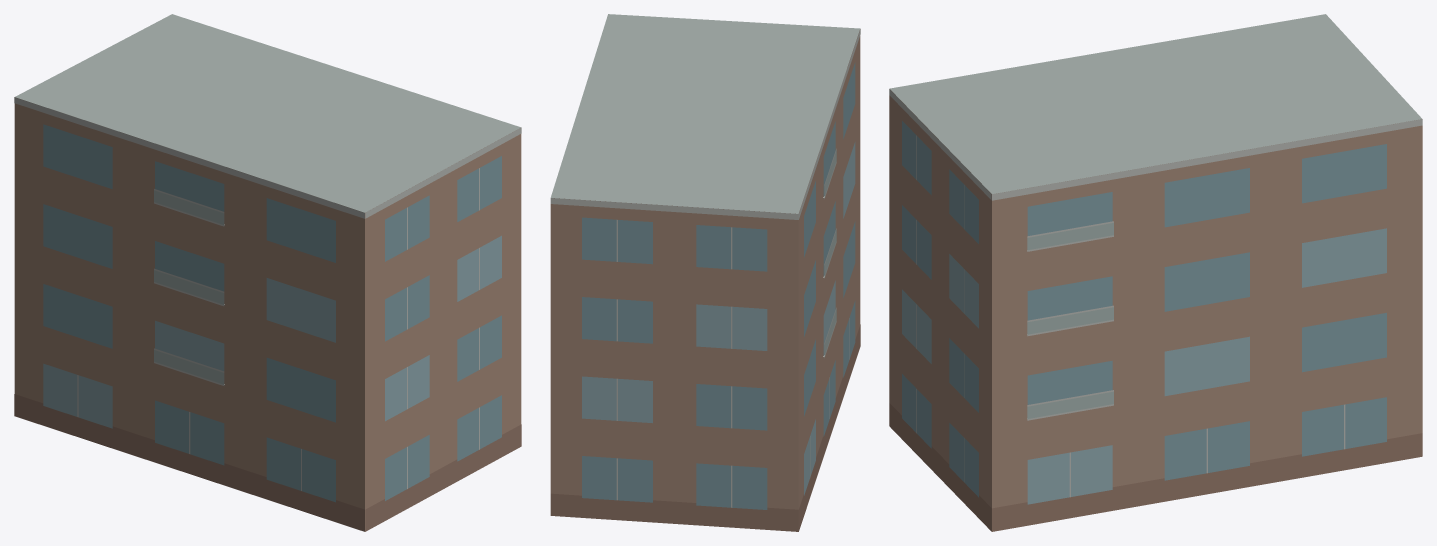
The model's file is survey-upis-32929519.glb.
3 views of the same model, side by side, from view 1: azimuth 30°, elevation 25°; view 2: azimuth 150°, elevation 25°; view 3: azimuth 270°, elevation 25° (orthographic). The views are drawn at different scales.
Visible parts, largest first — view 1: survey-upis-32929519.tmp; view 2: survey-upis-32929519.tmp; view 3: survey-upis-32929519.tmp.
Part boxes in pixels (x1,y1,x2,y2): survey-upis-32929519.tmp: [14, 14, 521, 531]; survey-upis-32929519.tmp: [550, 14, 860, 531]; survey-upis-32929519.tmp: [889, 14, 1422, 531].
Bounding box in the file's own units: 14.49 × 12.65 × 18.11.
